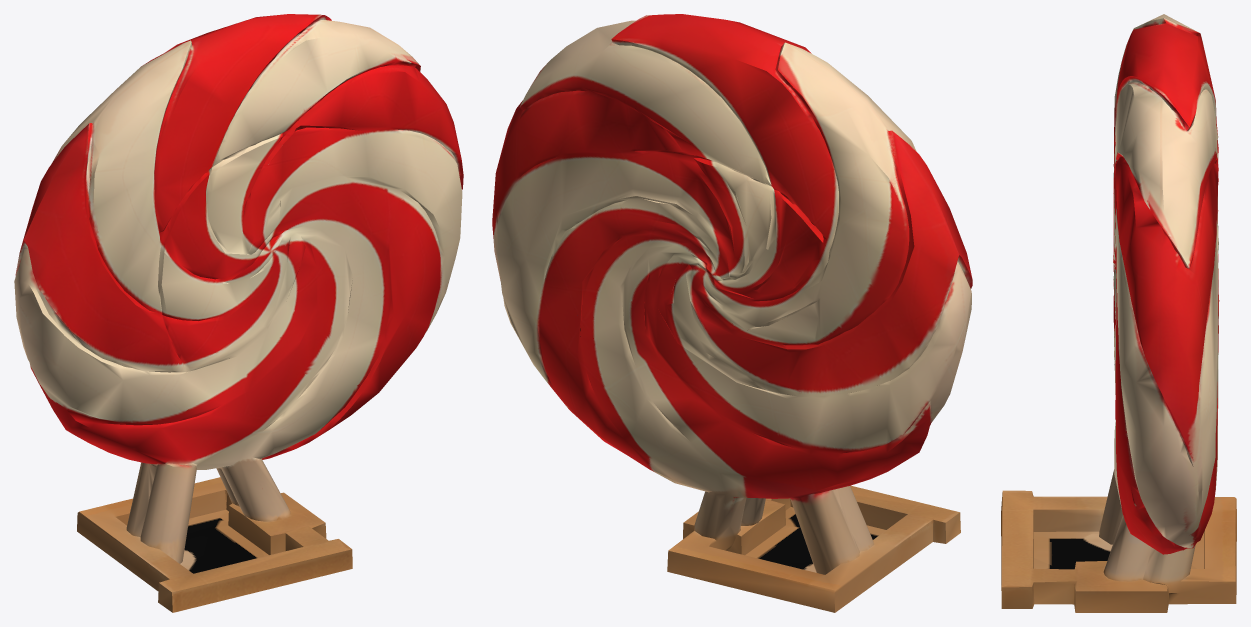
File: 8-topper.fbx
The picture shows the model from 3 angles, left to right: view 1: azimuth 30°, elevation 25°; view 2: azimuth 150°, elevation 25°; view 3: azimuth 270°, elevation 25°; orthographic projection. The views are drawn at different scales.
Visible parts, largest first — view 1: topper; view 2: topper; view 3: topper.
Part boxes in pixels (x1=…): topper: x1=14, y1=14, x2=463, y2=612; topper: x1=492, y1=14, x2=972, y2=612; topper: x1=1001, y1=14, x2=1236, y2=612.
Size of the model in its own units: 3413 by 3687 by 1429.
Materials: 1 (1 with a texture image).
